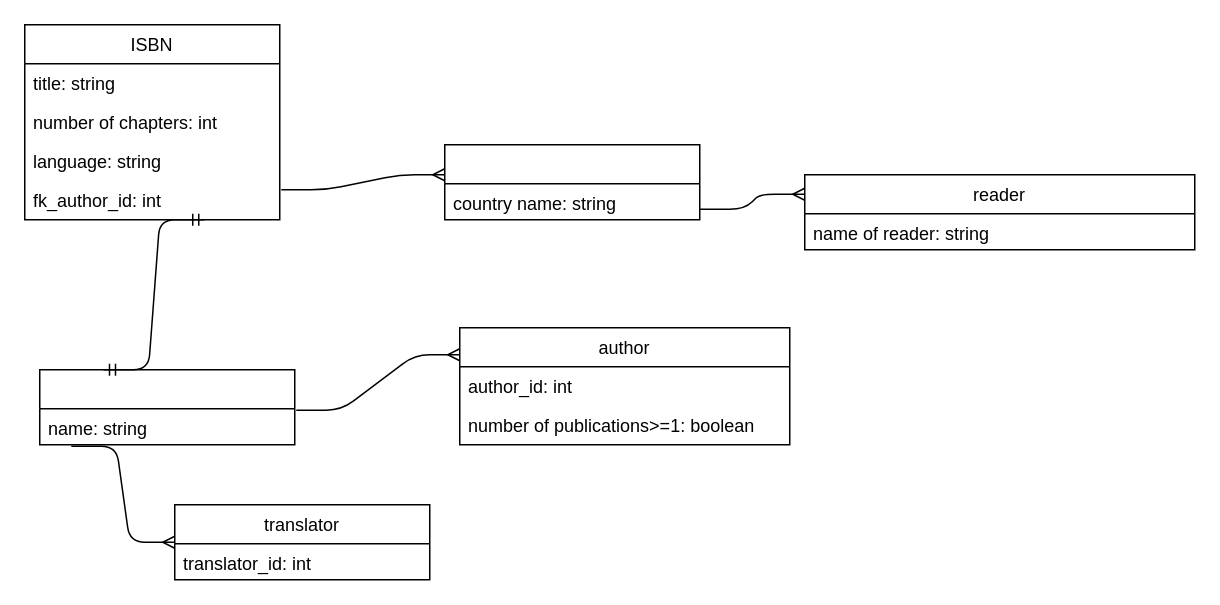
Image size: 1220x605. Some labels were removed from this diagram. Each missing label, with the box of its shape:
markets (by country): (443, 143, 700, 220)
publisher: (38, 368, 295, 445)
